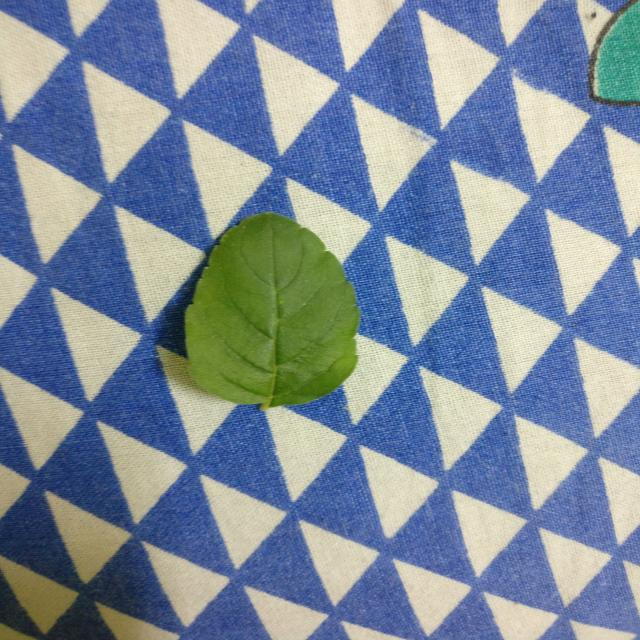tulsi: (185, 212, 360, 410)
